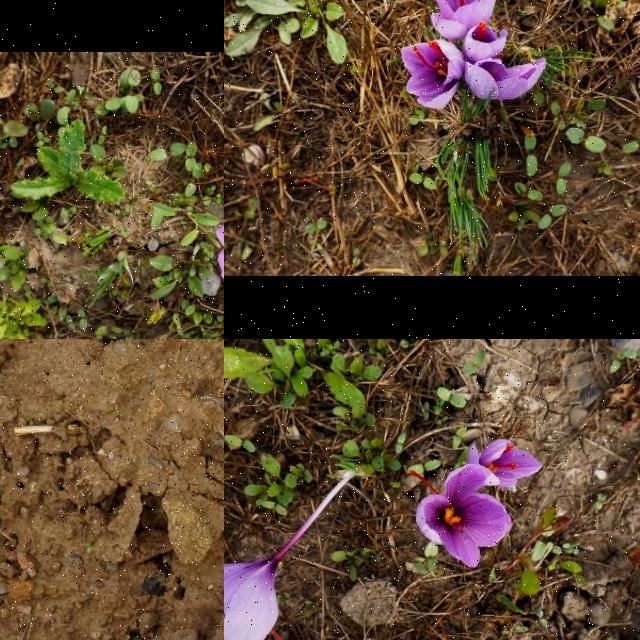flower: (409, 464, 509, 568), (224, 561, 288, 640), (402, 42, 466, 108), (466, 440, 542, 492), (462, 57, 546, 103), (432, 0, 498, 39), (462, 22, 508, 59)
